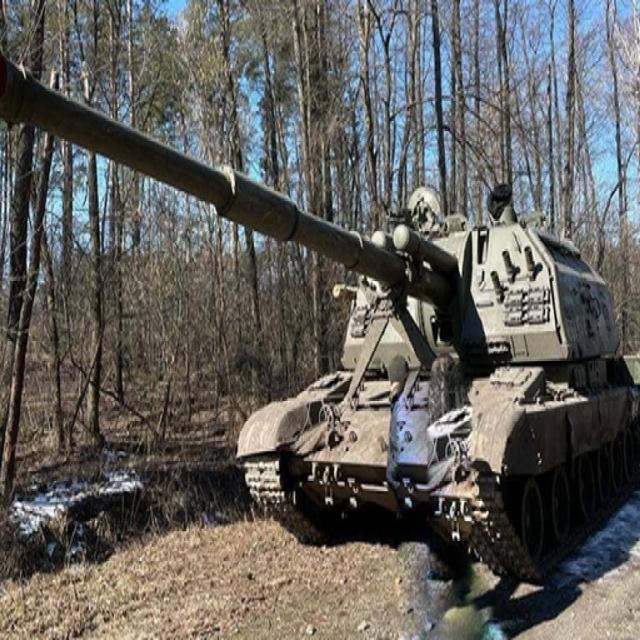ART: (0, 45, 639, 582)
